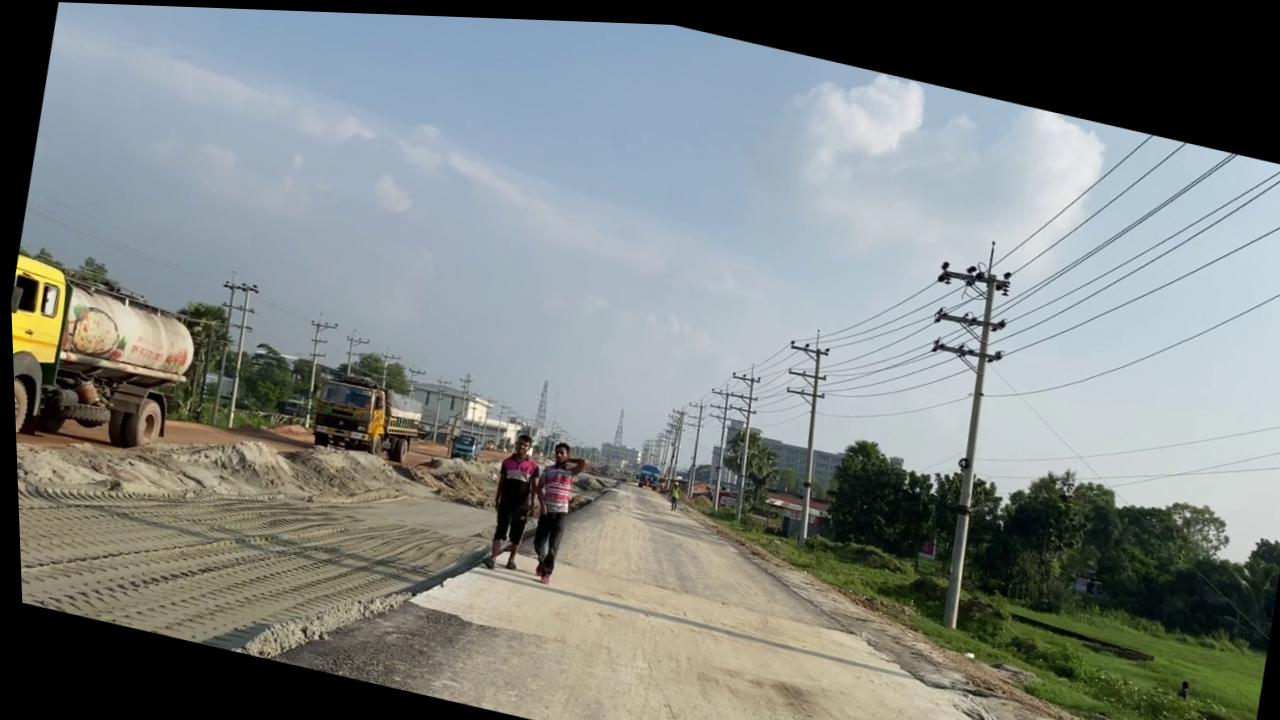Muddy road: (251, 397, 1264, 720)
Pole: (867, 219, 1030, 625)
Traffic-sign: (708, 414, 784, 508)
Tree: (7, 252, 206, 483), (299, 362, 425, 465), (443, 426, 476, 459), (632, 457, 657, 485), (685, 475, 710, 498)
